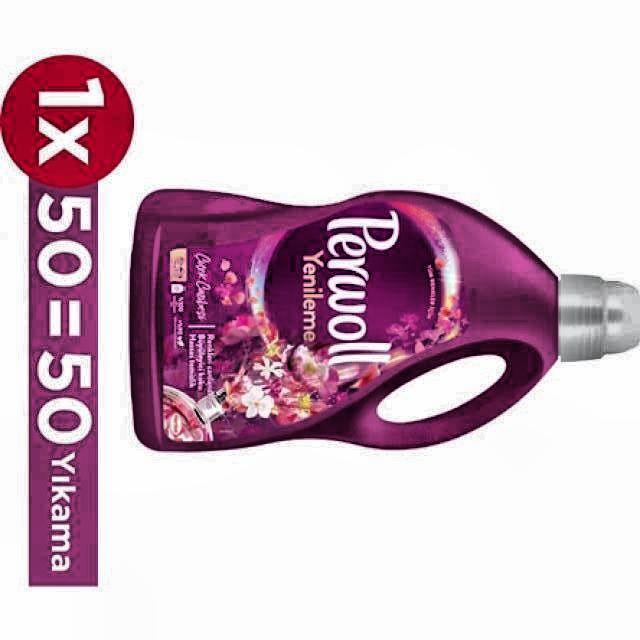plastic: (130, 191, 639, 450)
